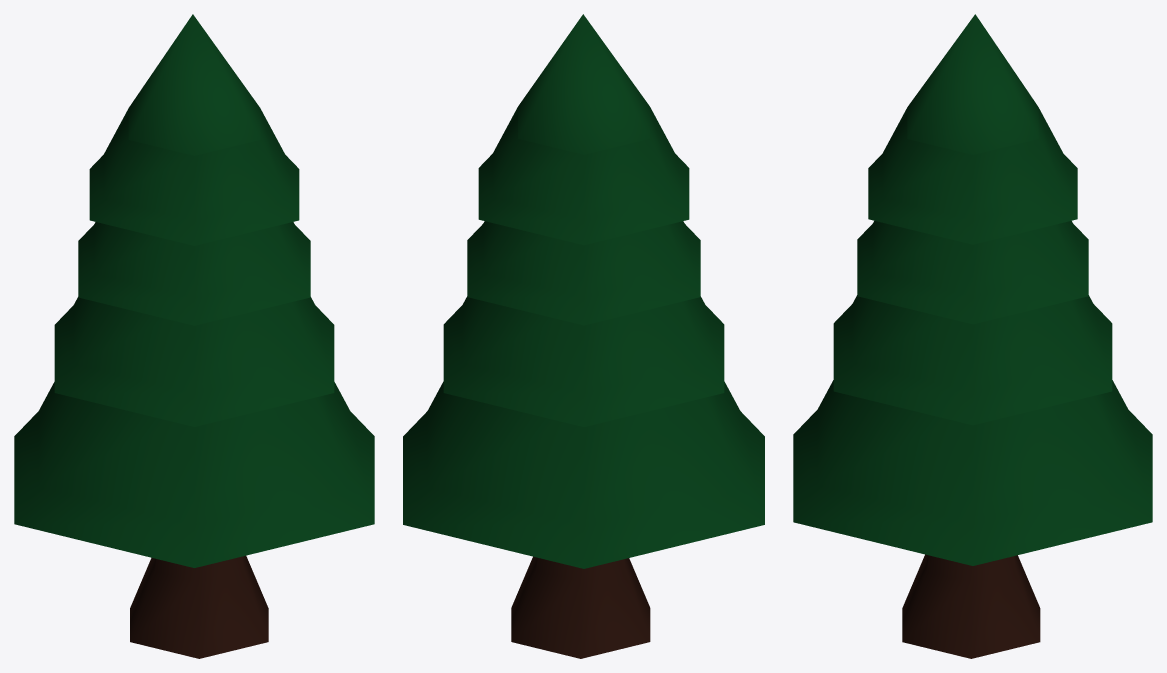
File: tree_pine.FBX
3 views of the same model, side by side, from view 1: azimuth 30°, elevation 25°; view 2: azimuth 150°, elevation 25°; view 3: azimuth 270°, elevation 25° (orthographic).
Visible parts, largest first — view 1: Cylinder001, Trunk001; view 2: Cylinder001, Trunk001; view 3: Cylinder001, Trunk001.
Boxes of the visible parts, x1,y1,x2,y2 form: Cylinder001: (14, 14, 374, 567); Trunk001: (130, 555, 268, 658); Cylinder001: (403, 14, 764, 568); Trunk001: (511, 556, 650, 658); Cylinder001: (793, 14, 1152, 565); Trunk001: (902, 554, 1040, 658).
Bounding box in the file's own units: 75.37 × 122 × 65.27.
